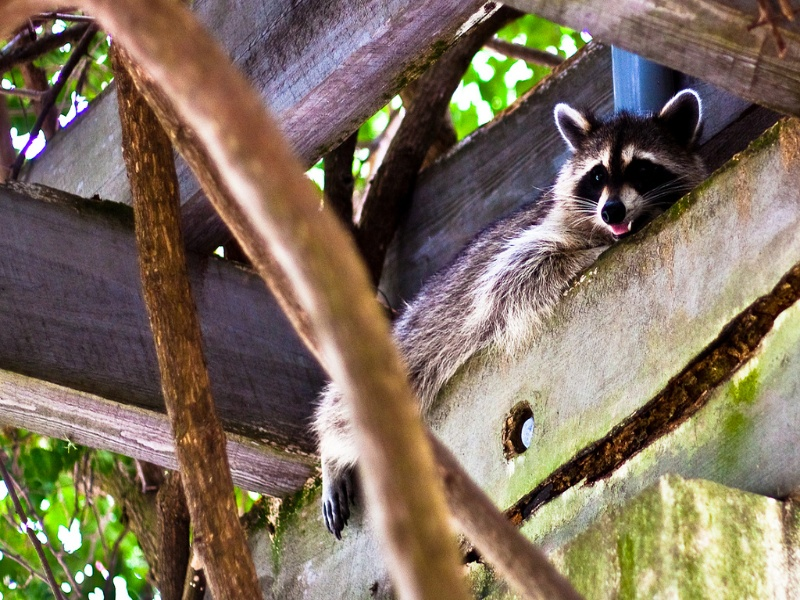raccoon: (310, 84, 712, 545)
